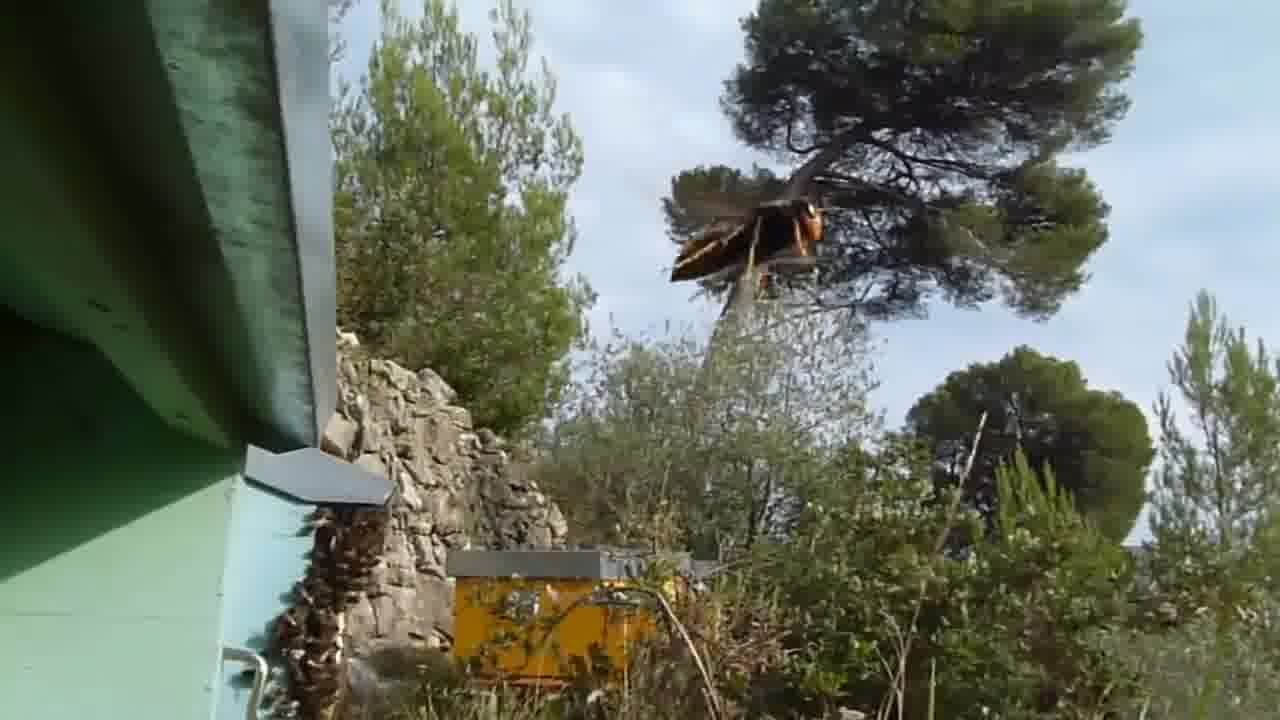bee: (298, 501, 394, 611), (262, 597, 340, 714)
hornet: (662, 194, 841, 292)
